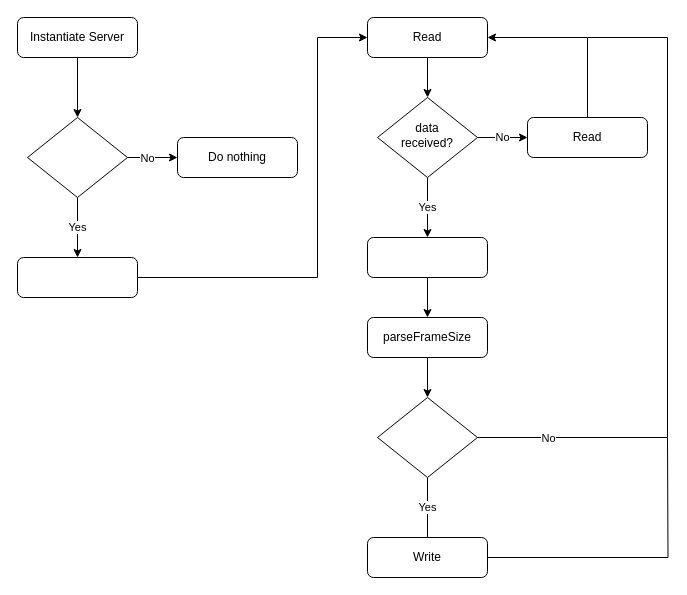
Image size: 687x595. Some labels were removed from this diagram. Here are the shapes that lost their labels. From the top down, the box of each, then its label:
(26, 116, 128, 198): client connected?
(16, 256, 138, 298): Create Session
(366, 236, 488, 278): trimToLeadingChars
(376, 396, 478, 478): size correct?
